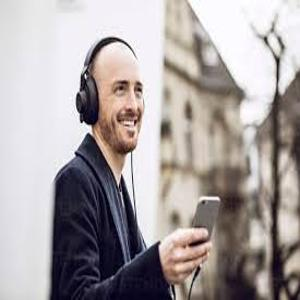Headphones: (74, 36, 145, 126)
